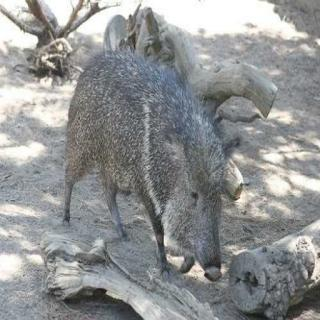Pig: (52, 14, 277, 286)
